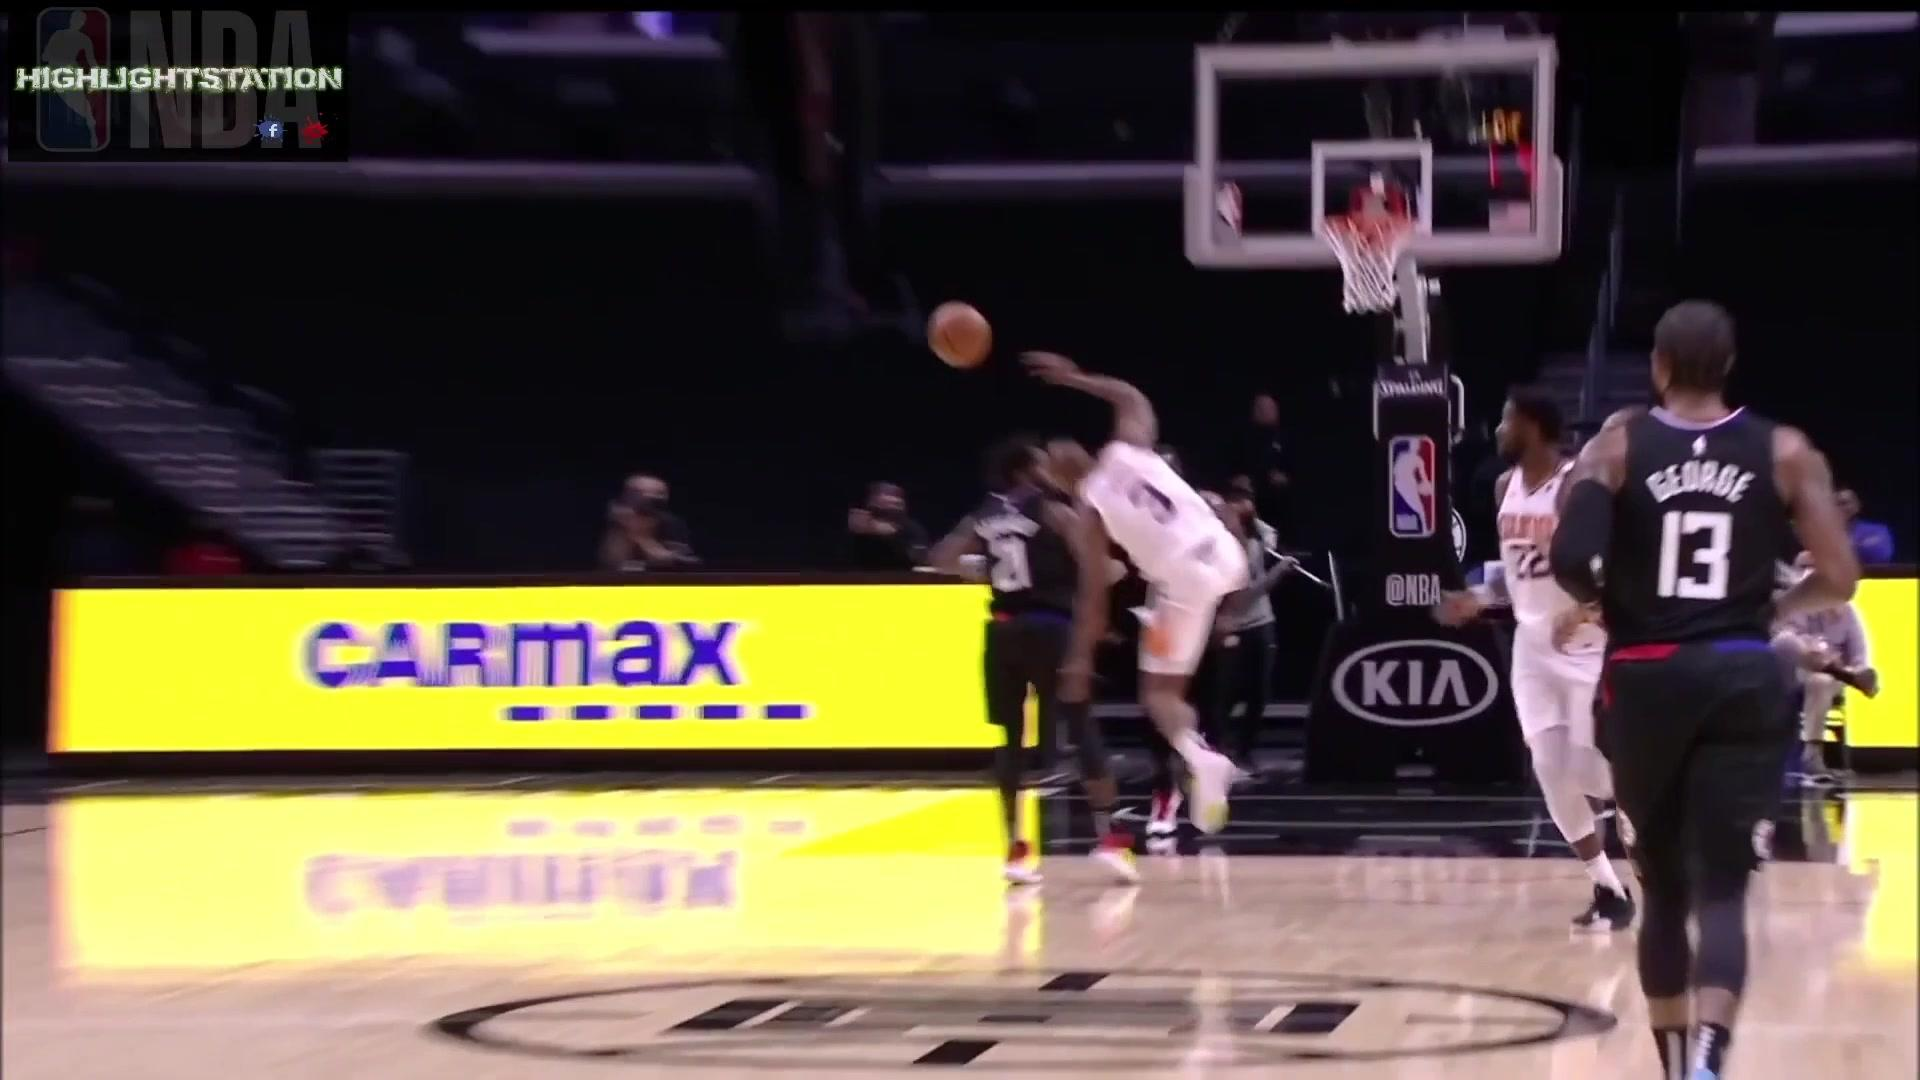foul: (928, 410, 1253, 889)
